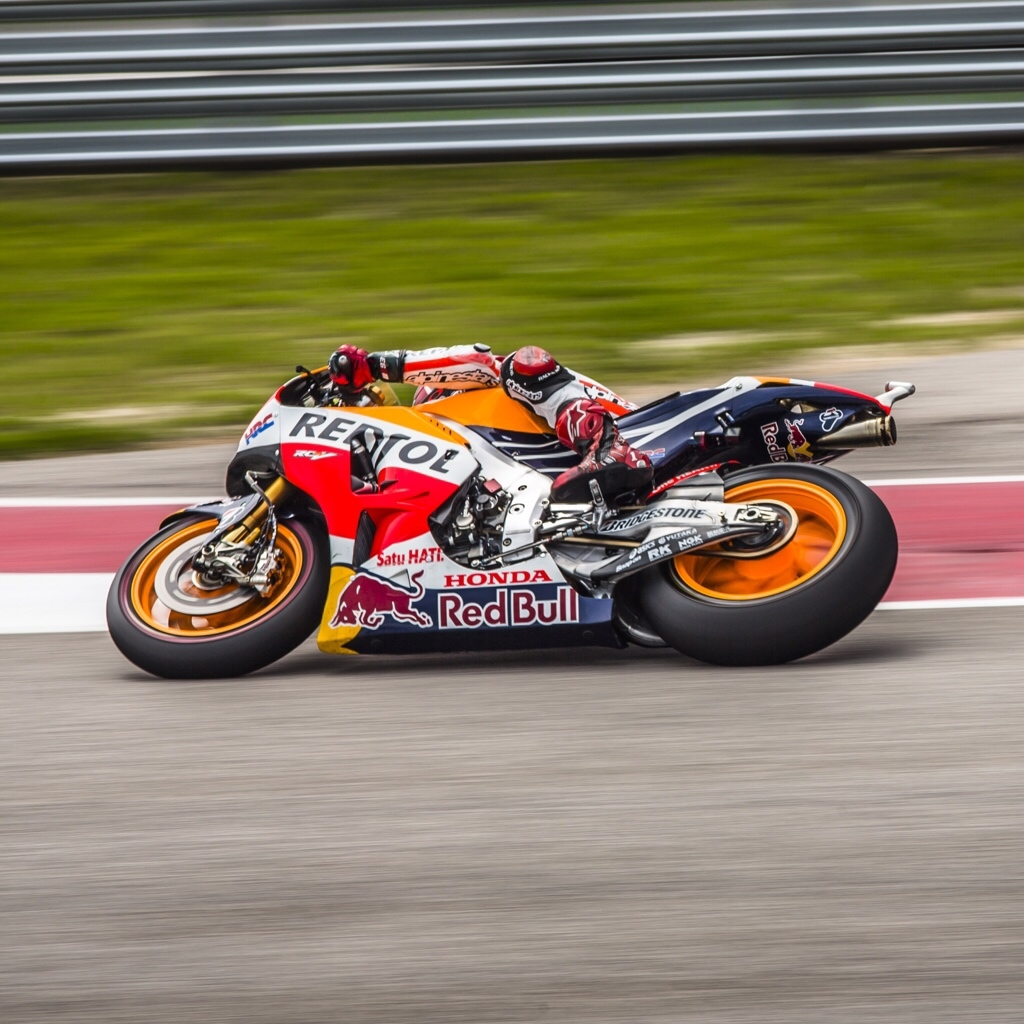Motorcycle: (115, 330, 903, 679)
